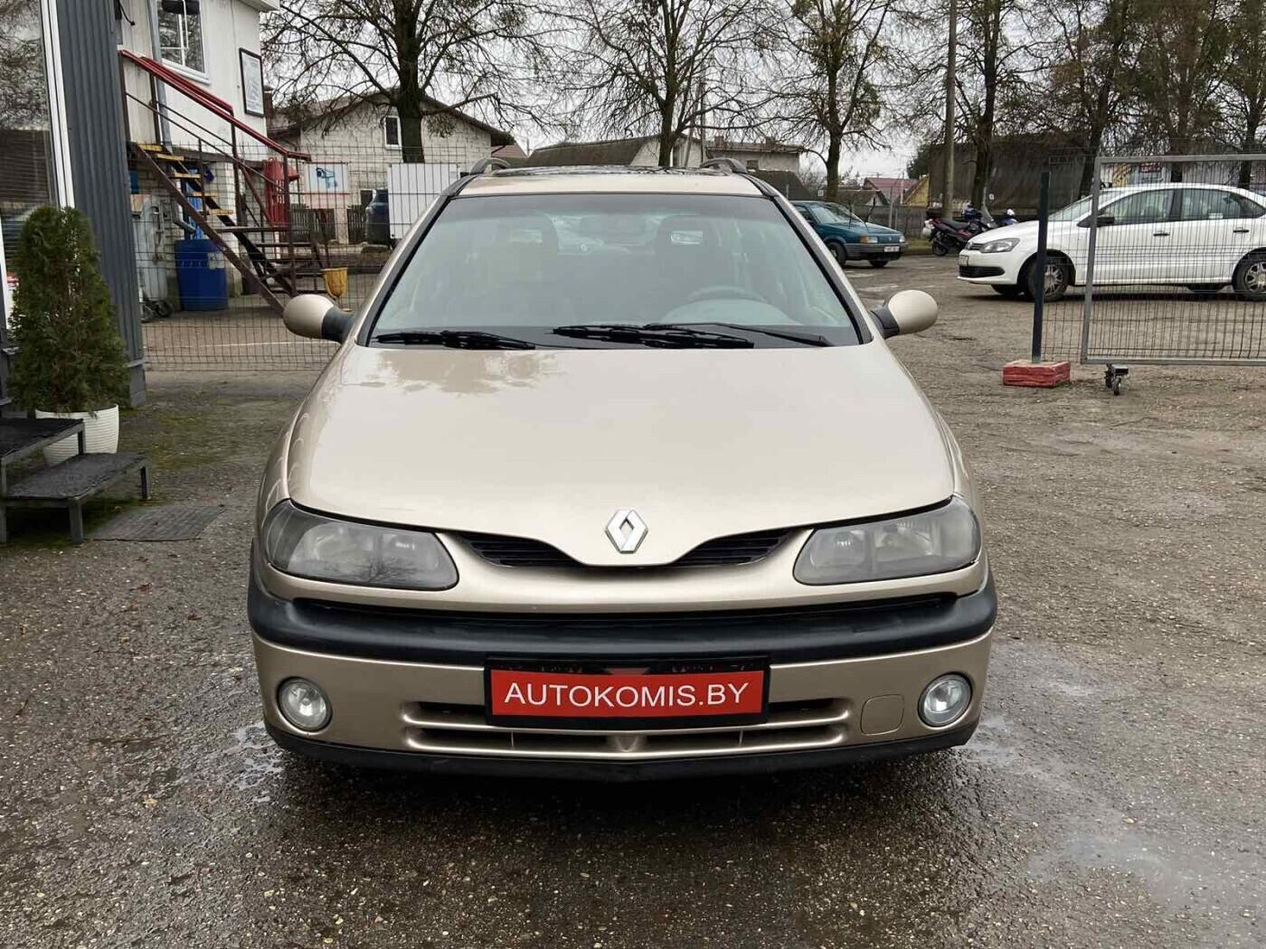Laguna_1998-2001: (242, 150, 1009, 795)
